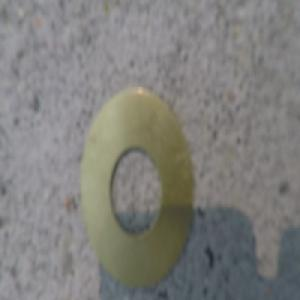Washer: (77, 84, 190, 285)
